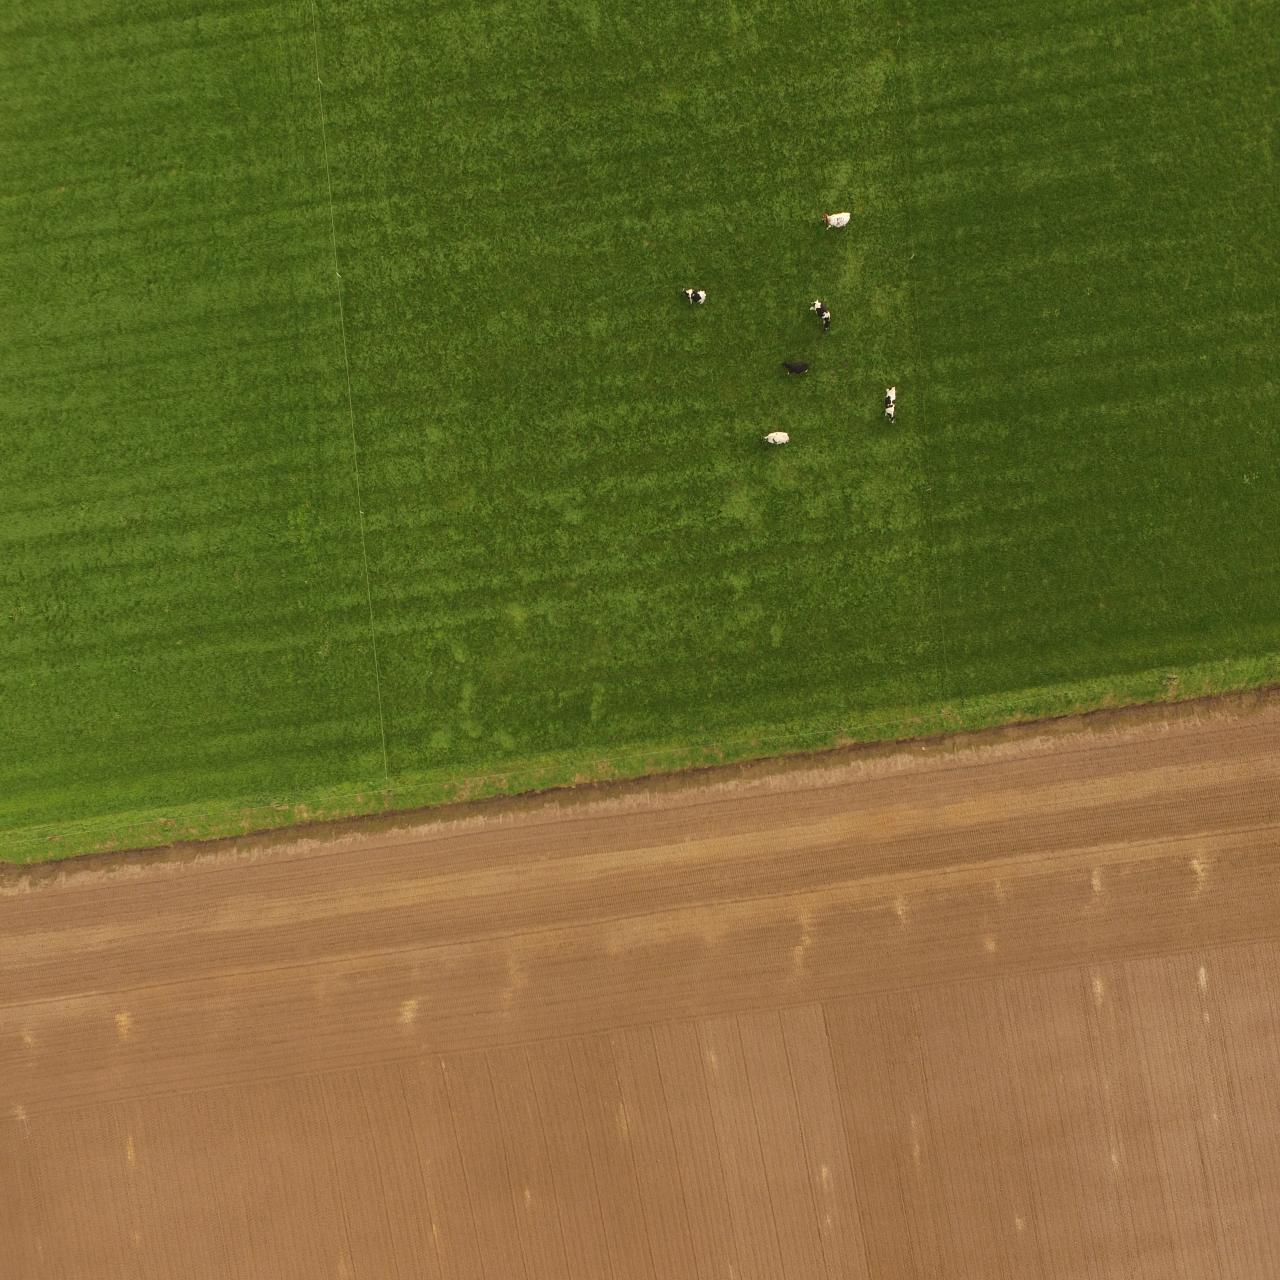cow: (812, 300, 839, 333), (818, 210, 852, 230), (760, 428, 789, 448), (686, 288, 712, 309), (783, 359, 811, 377), (884, 386, 894, 428)
